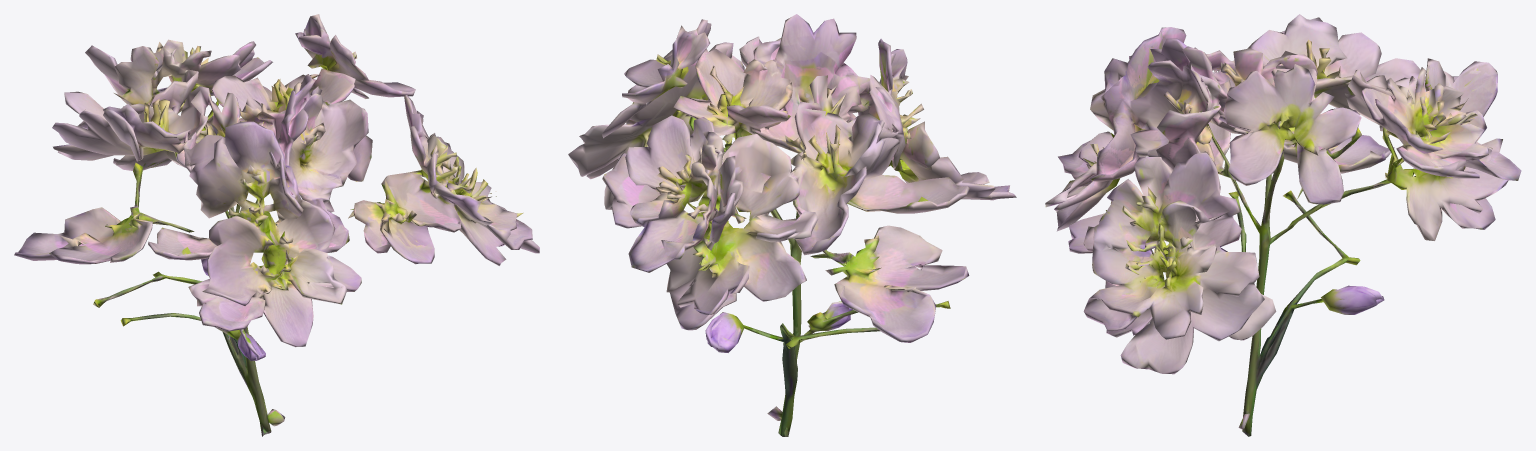
The model's file is pulsatilla_3d.glb.
3 renders of one model, left to right at view 1: azimuth 30°, elevation 25°; view 2: azimuth 150°, elevation 25°; view 3: azimuth 270°, elevation 25°, orthographic. The views are drawn at different scales.
Bounding box in the file's own units: 1.97 × 1.77 × 1.86.
Materials: 1 (1 with a texture image).
